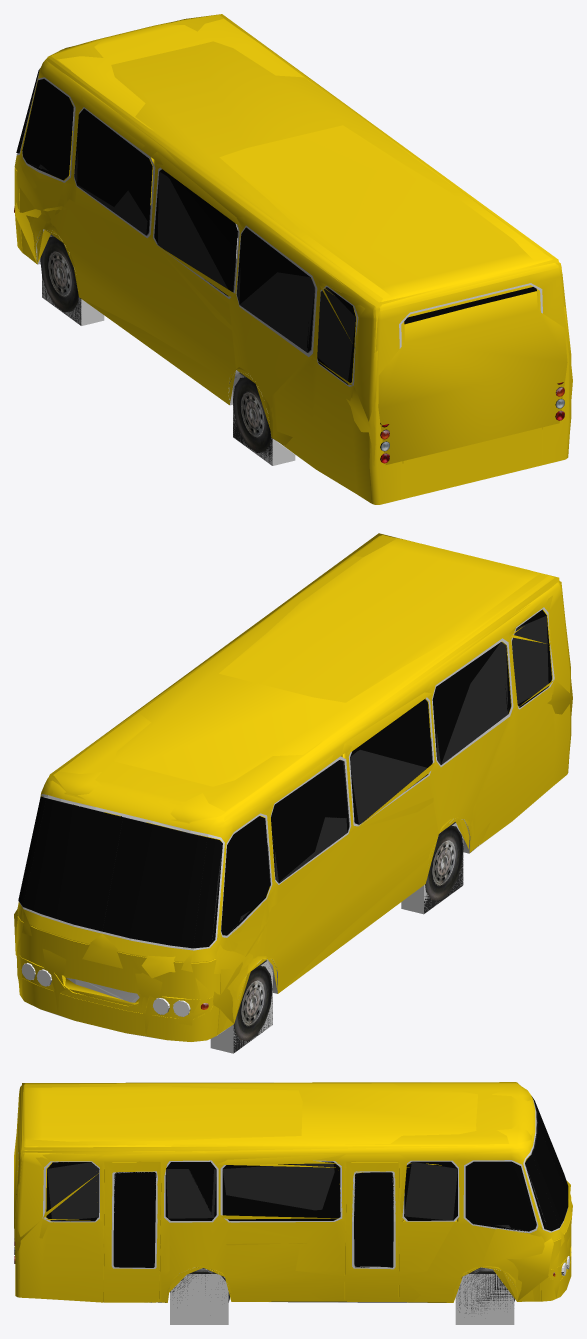
The model's file is bus.fbx.
3 renders of one model, top to bottom at view 1: azimuth 30°, elevation 25°; view 2: azimuth 150°, elevation 25°; view 3: azimuth 270°, elevation 25°, orthographic. The views are drawn at different scales.
Visible parts, largest first — view 1: body (×4), lod1_window, lod2_black, lod1_black, front_wheels, rear_wheels, black; view 2: body (×4), lod1_window, lod2_black, lod1_black, black, rear_wheels, front_wheels, lod3_black, lod2_front_lights; view 3: body (×4), lod1_window, lod2_black, lod1_black, lod3_black, black, window.
Boxes of the visible parts, left/top/right/bottom form: body (×4): left=14, top=14, right=572, bottom=504; lod1_window: left=16, top=71, right=536, bottom=384; lod2_black: left=28, top=152, right=355, bottom=464; lod1_black: left=23, top=98, right=542, bottom=465; front_wheels: left=40, top=236, right=78, bottom=312; rear_wheels: left=233, top=377, right=271, bottom=452; black: left=16, top=70, right=539, bottom=388; body (×4): left=14, top=533, right=572, bottom=1041; lod1_window: left=18, top=609, right=551, bottom=948; lod2_black: left=50, top=615, right=548, bottom=1052; lod1_black: left=20, top=613, right=554, bottom=1044; black: left=19, top=607, right=553, bottom=1038; rear_wheels: left=425, top=825, right=463, bottom=901; front_wheels: left=233, top=965, right=272, bottom=1041; lod3_black: left=43, top=729, right=488, bottom=1053; lod2_front_lights: left=21, top=963, right=190, bottom=1016; body (×4): left=14, top=1082, right=572, bottom=1302; lod1_window: left=46, top=1101, right=568, bottom=1267; lod2_black: left=47, top=1103, right=544, bottom=1313; lod1_black: left=17, top=1100, right=567, bottom=1321; lod3_black: left=156, top=1118, right=551, bottom=1324; black: left=18, top=1106, right=563, bottom=1269; window: left=113, top=1097, right=535, bottom=1267.
Bounding box in the file's own units: 2.22 × 2.51 × 7.13.
